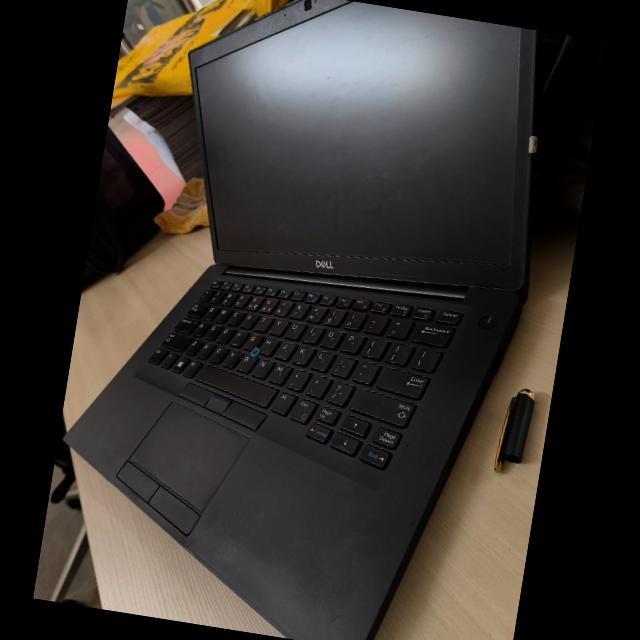laptop: (46, 0, 561, 637)
